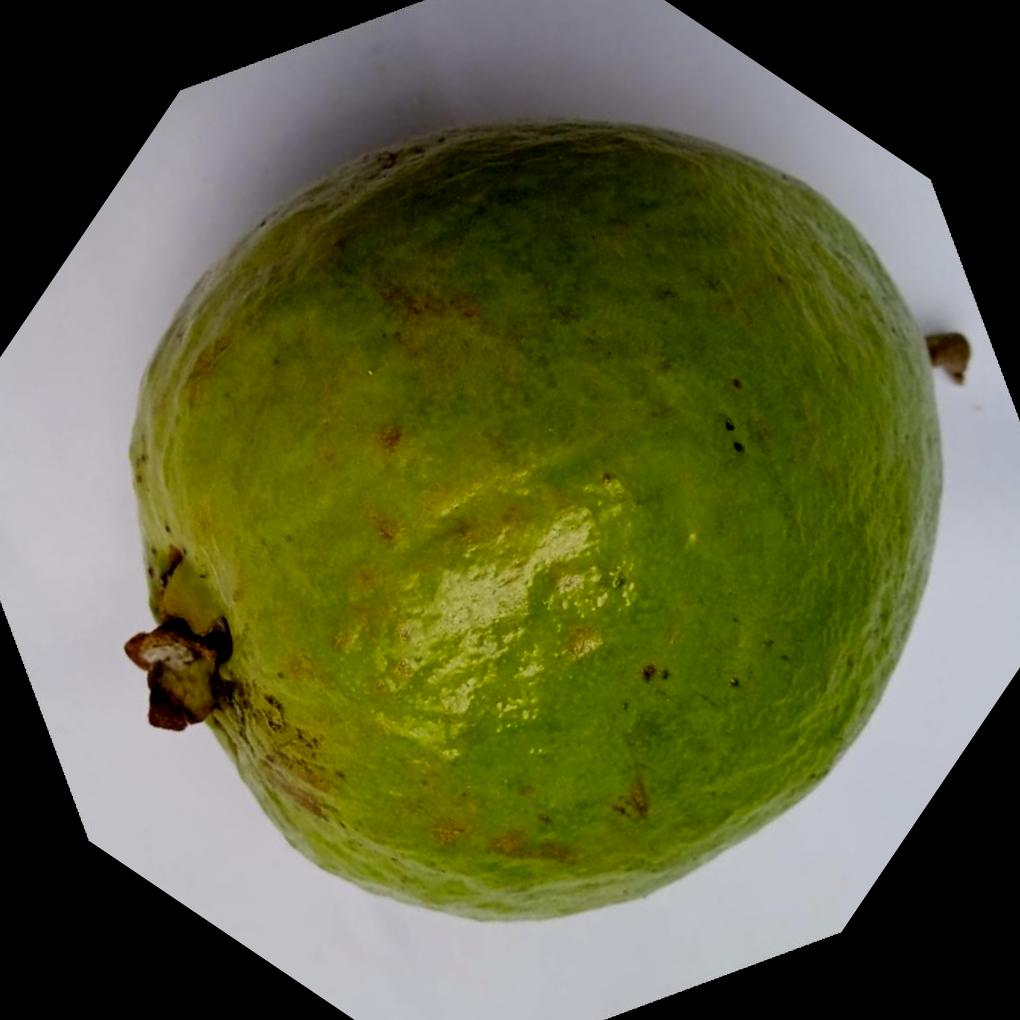FreshGuava: (126, 116, 949, 920)
